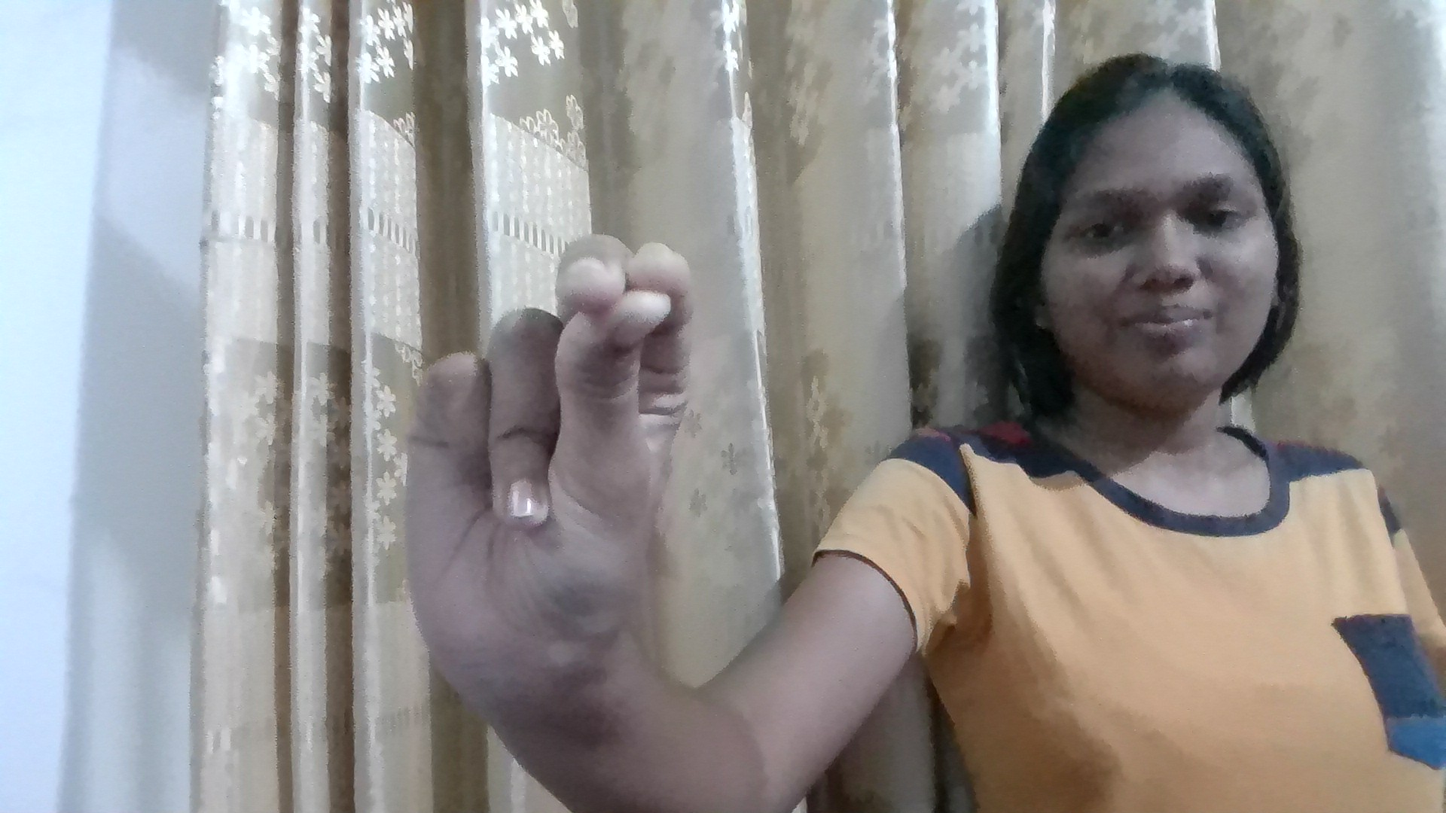No: (222, 159, 726, 728)
